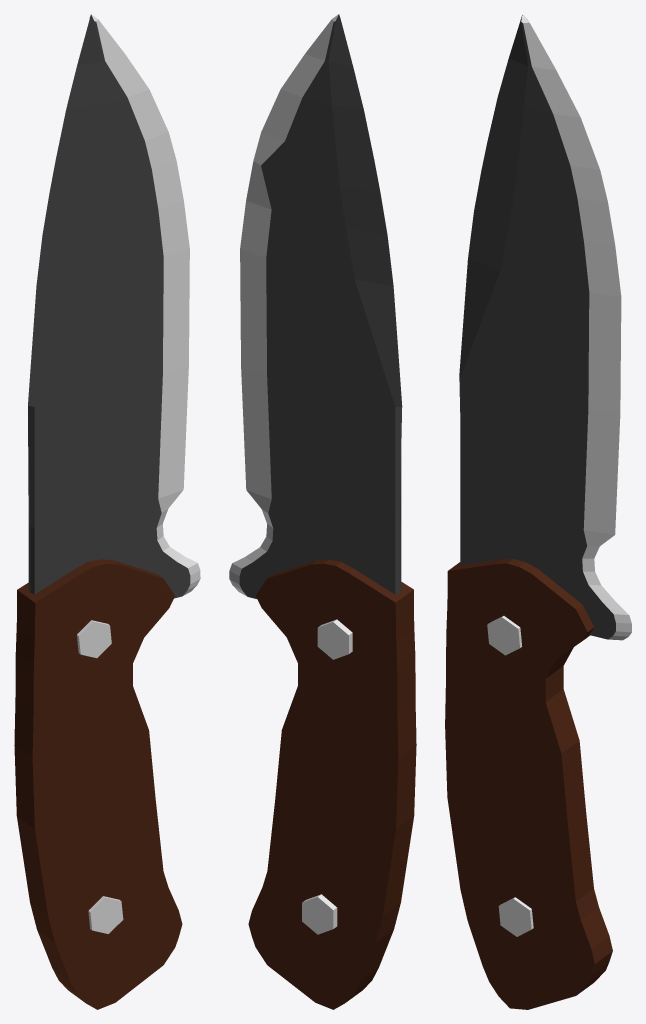
Rendered from Knife.fbx.
The picture shows the model from 3 angles, left to right: view 1: azimuth 30°, elevation 25°; view 2: azimuth 150°, elevation 25°; view 3: azimuth 330°, elevation 25°; orthographic projection.
Parts seen in each view (by area): view 1: Knife; view 2: Knife; view 3: Knife.
Part boxes in pixels (left/top/right/bottom): Knife: left=14, top=14, right=200, bottom=1009; Knife: left=229, top=14, right=416, bottom=1009; Knife: left=445, top=14, right=631, bottom=1009.
Bounding box in the file's own units: 14.05 × 3.3 × 74.8.
